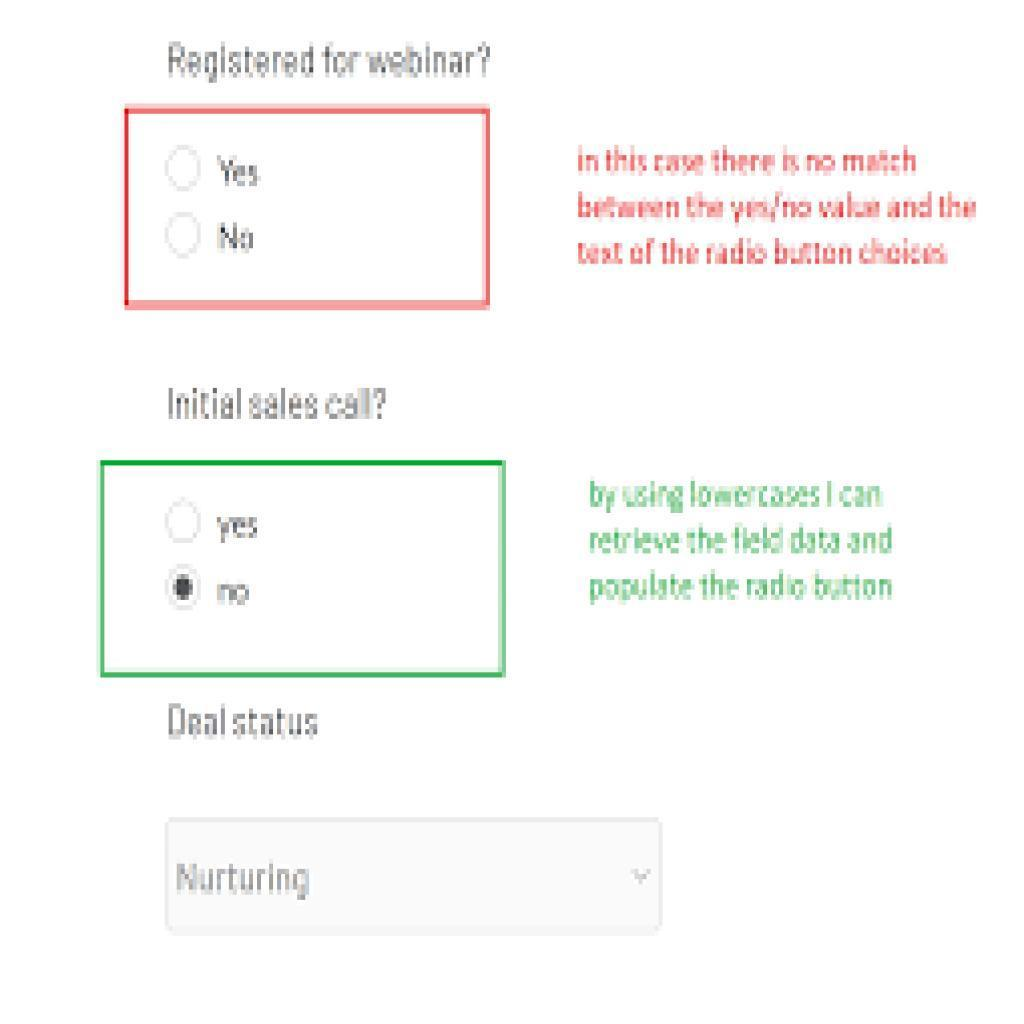dropdown: (175, 822, 666, 935)
label: (162, 33, 495, 94), (159, 380, 395, 431), (159, 700, 322, 743), (213, 149, 266, 188), (213, 507, 266, 545), (210, 574, 259, 610), (217, 224, 261, 256)
radio: (165, 492, 207, 547), (163, 142, 206, 195), (164, 564, 207, 610), (165, 210, 203, 261)
